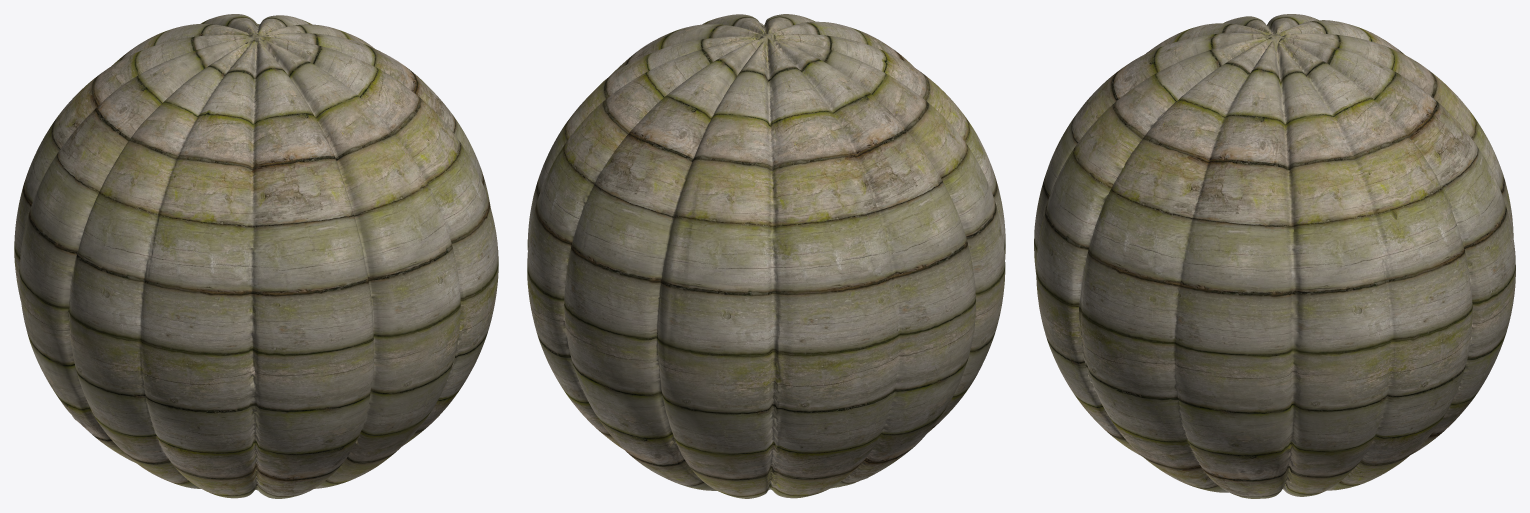
Rendered from beam_wall_01_1k.gltf.
The picture shows the model from 3 angles, left to right: view 1: azimuth 30°, elevation 25°; view 2: azimuth 150°, elevation 25°; view 3: azimuth 270°, elevation 25°; orthographic projection.
Parts seen in each view (by area): view 1: sphere_gltf; view 2: sphere_gltf; view 3: sphere_gltf.
Part boxes in pixels (bbox=[...]): sphere_gltf: bbox=[14, 14, 498, 498]; sphere_gltf: bbox=[527, 14, 1005, 498]; sphere_gltf: bbox=[1034, 14, 1515, 498].
Bounding box in the file's own units: 1.02 × 1.03 × 1.02.
1 material, 1 textured.
